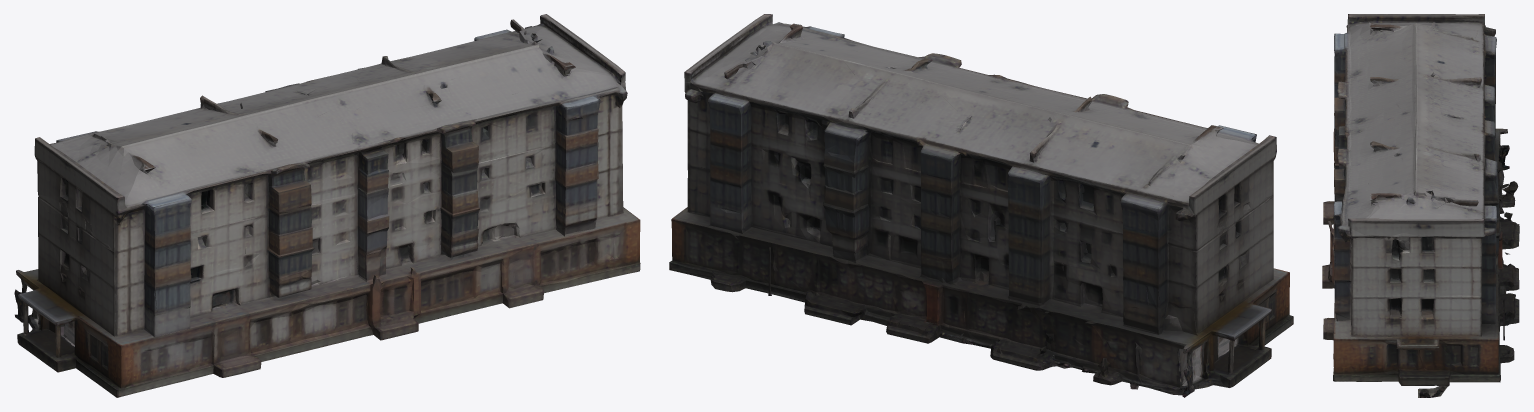
The model's file is SSSR_House_3.fbx.
The picture shows the model from 3 angles, left to right: view 1: azimuth 30°, elevation 25°; view 2: azimuth 150°, elevation 25°; view 3: azimuth 270°, elevation 25°; orthographic projection. The views are drawn at different scales.
Visible parts, largest first — view 1: world.002; view 2: world.002; view 3: world.002.
Boxes of the visible parts, x1=… form: world.002: x1=14, y1=14, x2=640, y2=397; world.002: x1=669, y1=14, x2=1293, y2=397; world.002: x1=1322, y1=14, x2=1519, y2=397.
Bounding box in the file's own units: 0.9991 × 0.3682 × 0.3778.
